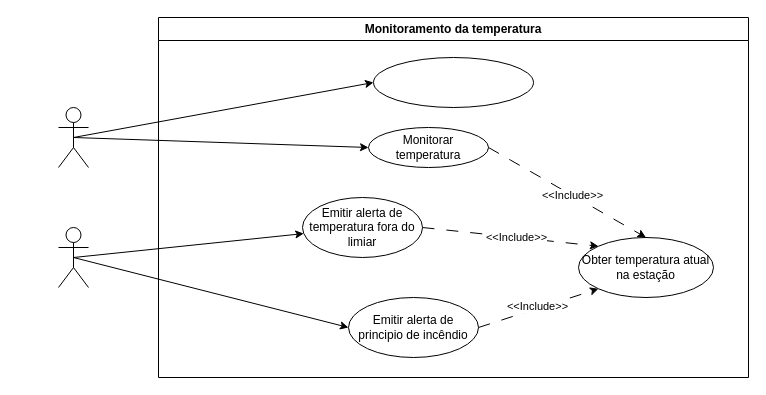
This 766x395 diagram has some shape labels left out. Here are the shapes that lost their labels. From the top down, the centre of each, then its label:
At (x=453, y=82): "Ajustar limiares de temperatura".
At (x=73, y=137): "Funcionario do Metro".
At (x=73, y=257): "Sistema".
